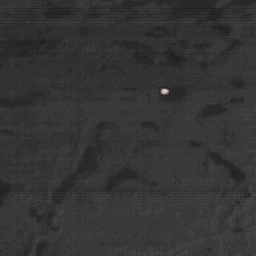Target: (159, 88, 169, 95)
